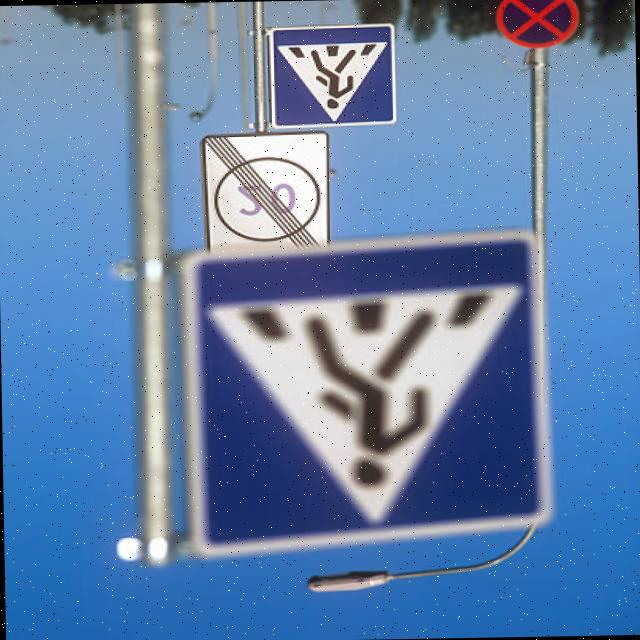crosswalk: (172, 223, 574, 566), (257, 15, 410, 136)
